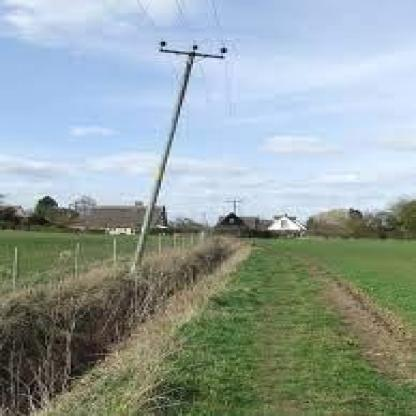Electrical Pole: (99, 35, 234, 294)
